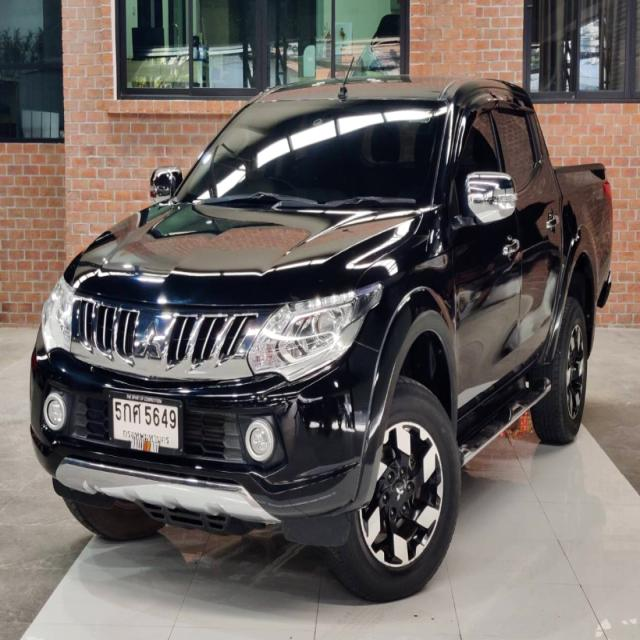license_plate: (108, 388, 184, 456)
